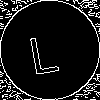L: (25, 25, 61, 75)
